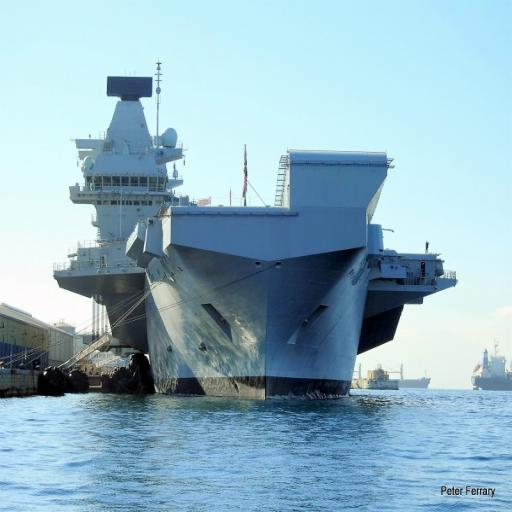Portanaves: (53, 55, 459, 405)
